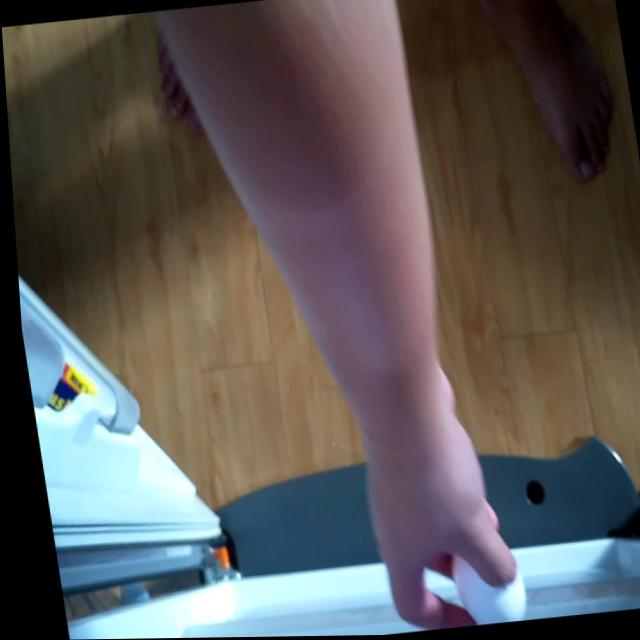egg: (440, 543, 517, 628)
